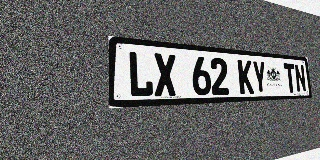2: (210, 57, 229, 95)
6: (191, 56, 212, 95)
K: (237, 59, 254, 94)
L: (128, 51, 154, 97)
N: (294, 64, 307, 92)
T: (283, 63, 297, 93)
X: (153, 53, 177, 97)
Y: (252, 61, 267, 94)
